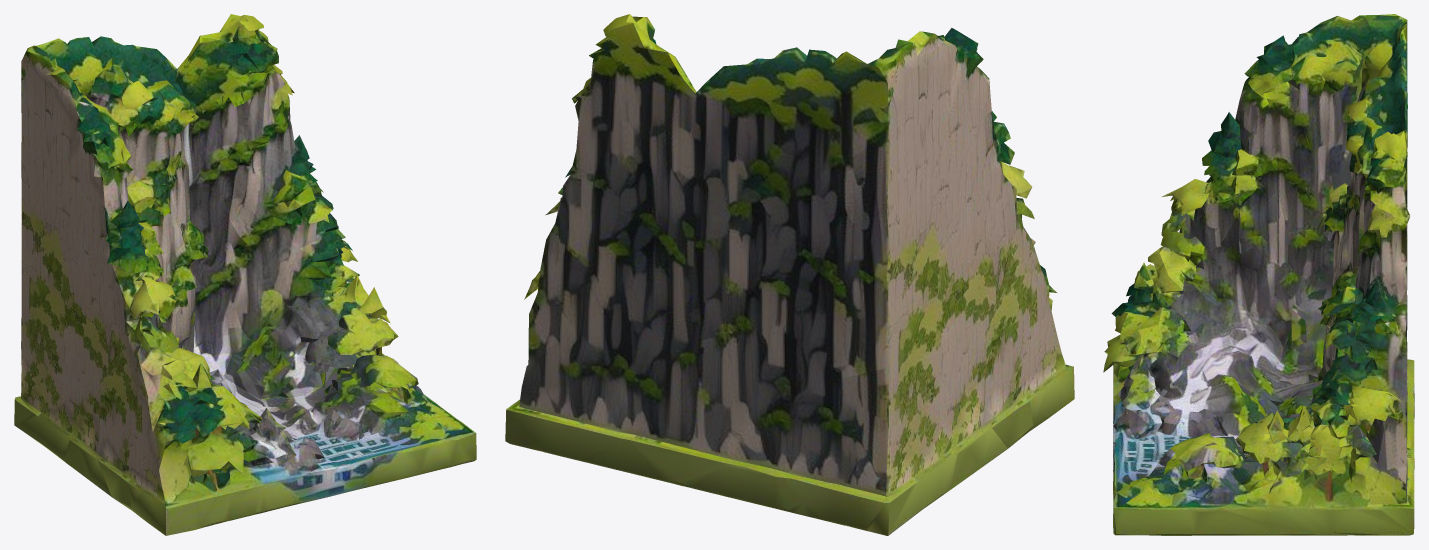
Rendered from ryusei-ginga-falls.glb.
3 views of the same model, side by side, from view 1: azimuth 30°, elevation 25°; view 2: azimuth 150°, elevation 25°; view 3: azimuth 270°, elevation 25° (orthographic). The views are drawn at different scales.
Parts seen in each view (by area): view 1: logan-textured.obj; view 2: logan-textured.obj; view 3: logan-textured.obj.
Boxes of the visible parts, bbox=[...] form: logan-textured.obj: bbox=[14, 14, 476, 535]; logan-textured.obj: bbox=[505, 14, 1074, 535]; logan-textured.obj: bbox=[1103, 14, 1414, 535].
Bounding box in the file's own units: 0.8675 × 1 × 0.7473.
Materials: 1 (1 with a texture image).
